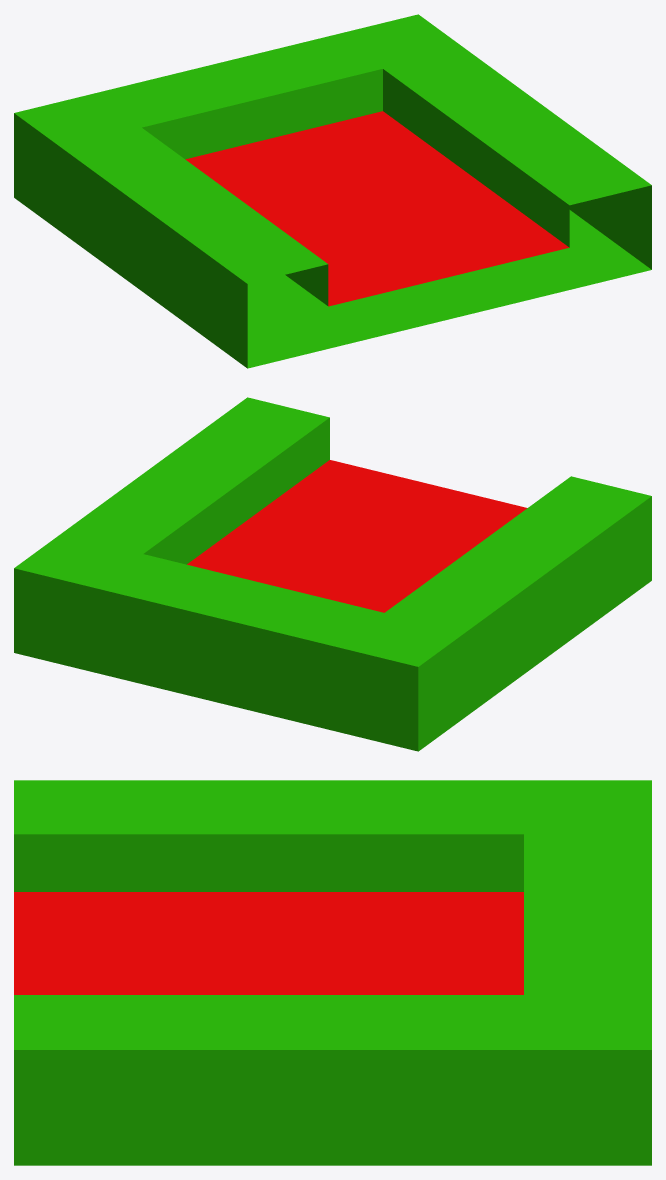
Rendered from modular_pieces_start_fixed.FBX.
3 views of the same model, one above another, from view 1: azimuth 30°, elevation 25°; view 2: azimuth 150°, elevation 25°; view 3: azimuth 270°, elevation 25° (orthographic). The views are drawn at different scales.
Parts seen in each view (by area): view 1: piece_new_end001; view 2: piece_new_end001; view 3: piece_new_end001.
Boxes of the visible parts, x1=… form: piece_new_end001: x1=14, y1=14, x2=651, y2=368; piece_new_end001: x1=14, y1=397, x2=651, y2=751; piece_new_end001: x1=14, y1=780, x2=651, y2=1165.
Bounding box in the file's own units: 100 × 20 × 100.
